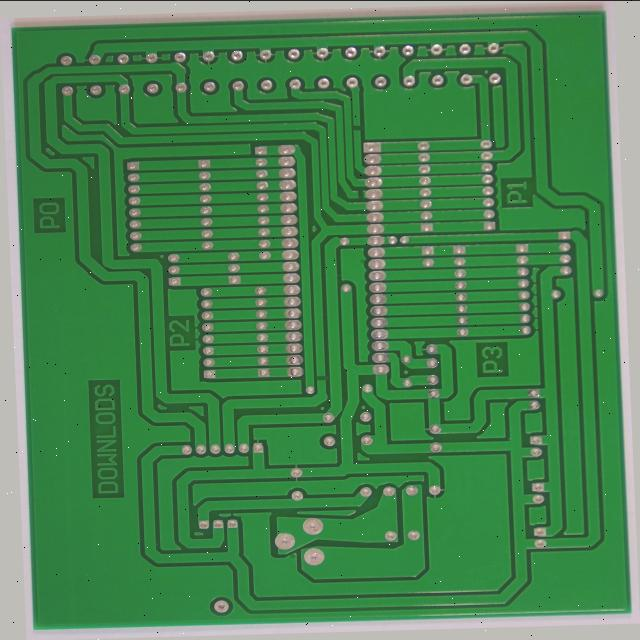open_circuit: (311, 372, 327, 385), (360, 115, 375, 128), (362, 185, 375, 198)
